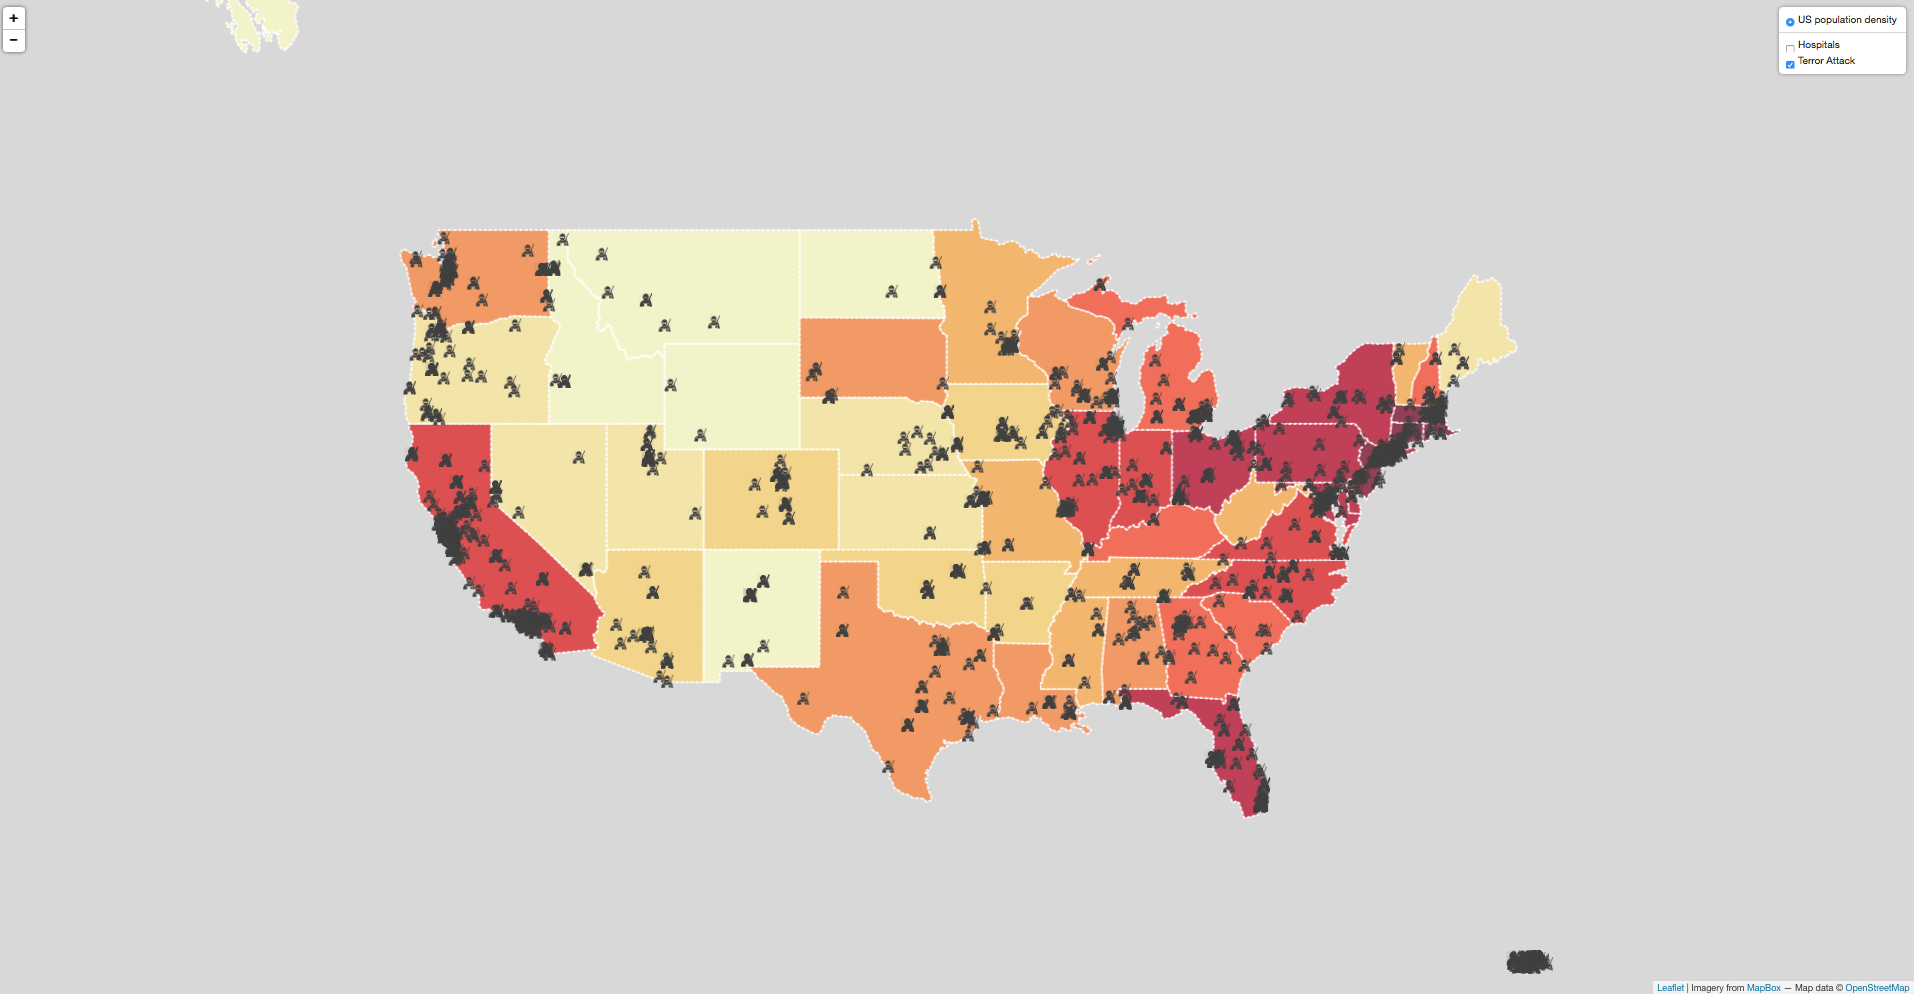

The dashboard page shown, as its layout file describes it:
{"tool":"tableau","page":{"name":"Dashboard 1","canvas":[1000,800],"ordinal":0},"visuals":[{"type":"worksheet","title":"Sheet 3)","mark":"Automatic","rows":["Number of Records"],"cols":["provstate"],"box":[0,0,365.9,800]},{"type":"legend","title":"Sheet 3)","param":"[federated.0k3zxak1oaesum1dcgc9w01v58vp].[none:targtype1_txt:nk]","box":[365.9,0,132.1,800]},{"type":"worksheet","title":"Sheet 1","mark":"Automatic","rows":["Number of Records"],"cols":["provstate"],"box":[498,0,365.9,800]},{"type":"legend","title":"Sheet 1","param":"[federated.0k3zxak1oaesum1dcgc9w01v58vp].[none:attacktype1_txt:nk]","box":[863.9,0,132.1,800]}]}

Visuals, with their boxes on the page's 1000x800 design canvas (x1, y1, x2, y2). These are canvas units, not pixel positions in the 1914x994 screenshot, which may show the page scaled, cropped or inside an application window:
"Sheet 3)" worksheet: x1=0 y1=0 x2=366 y2=800
"Sheet 3)" legend: x1=366 y1=0 x2=498 y2=800
"Sheet 1" worksheet: x1=498 y1=0 x2=864 y2=800
"Sheet 1" legend: x1=864 y1=0 x2=996 y2=800
